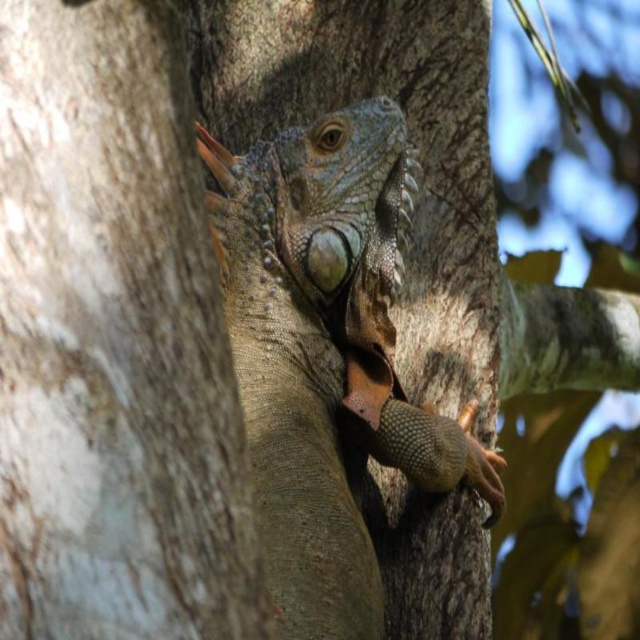Lizard: (192, 90, 505, 636)
